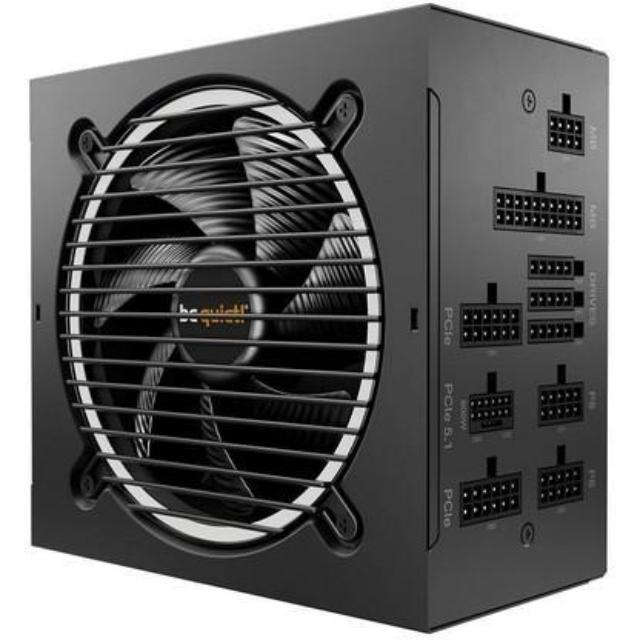PSU: (22, 0, 630, 640)
